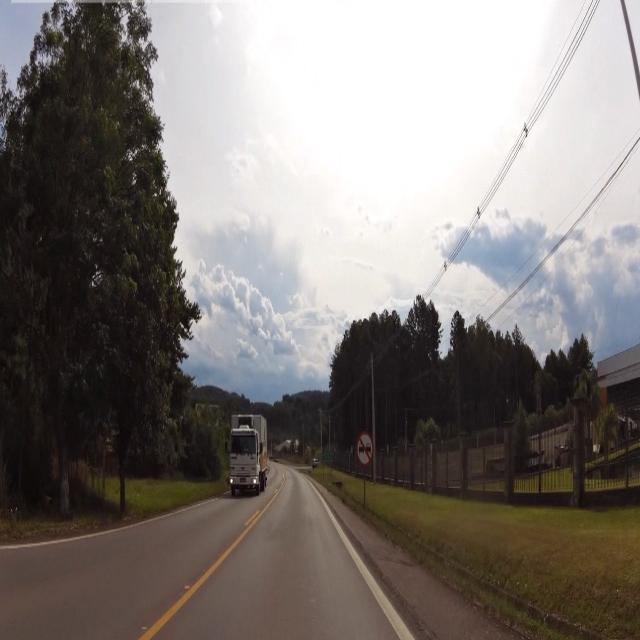R-7: (356, 430, 375, 470)
